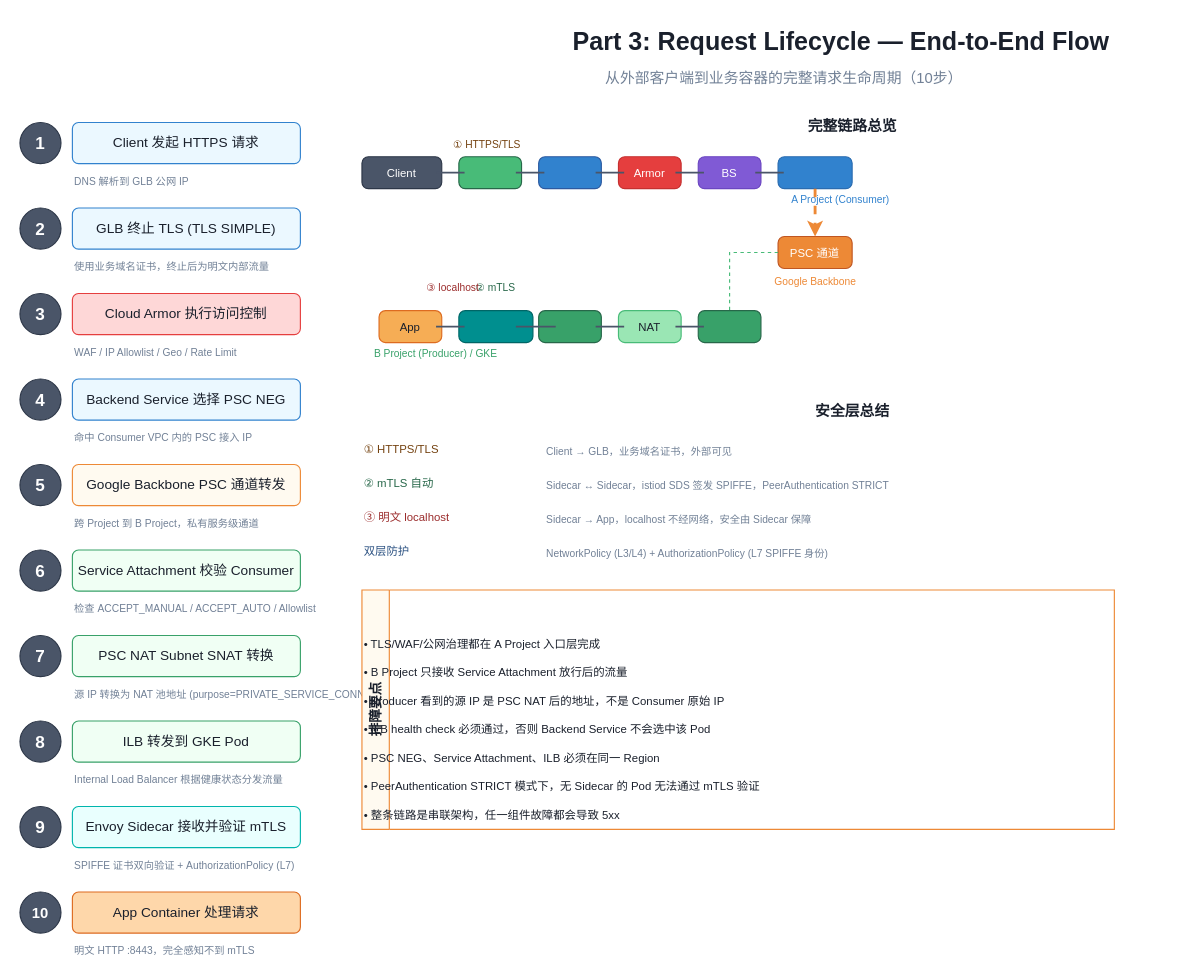
This 1203x977 diagram has some shape labels left out. The shapes that lost their labels are listed below. From the top down, each one's centre as x and y in pixels, then its label:
At (490,172): "DNS".
At (569,172): "GLB".
At (814,172): "PSC NEG".
At (495,326): "Sidecar".
At (569,326): "ILB".
At (729,326): "SA".
